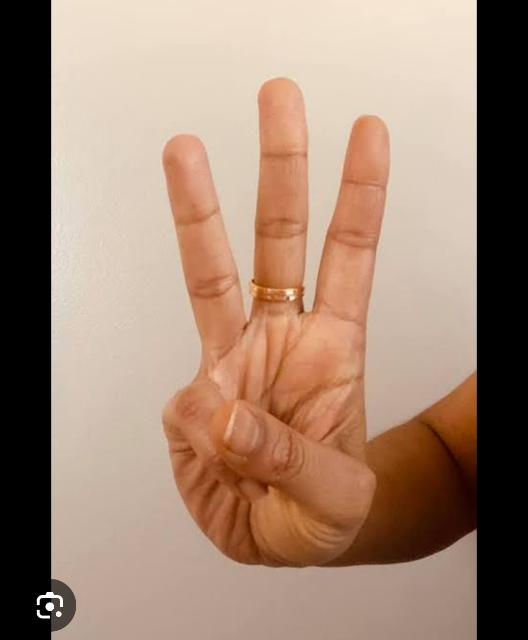trishool: (163, 80, 389, 567)
